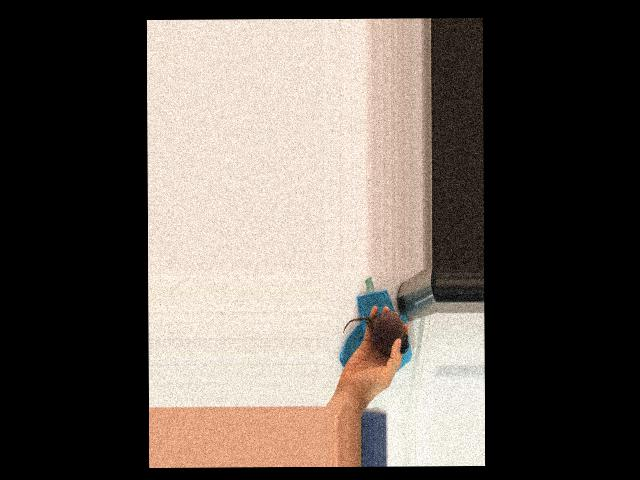beet: (342, 311, 408, 358)
